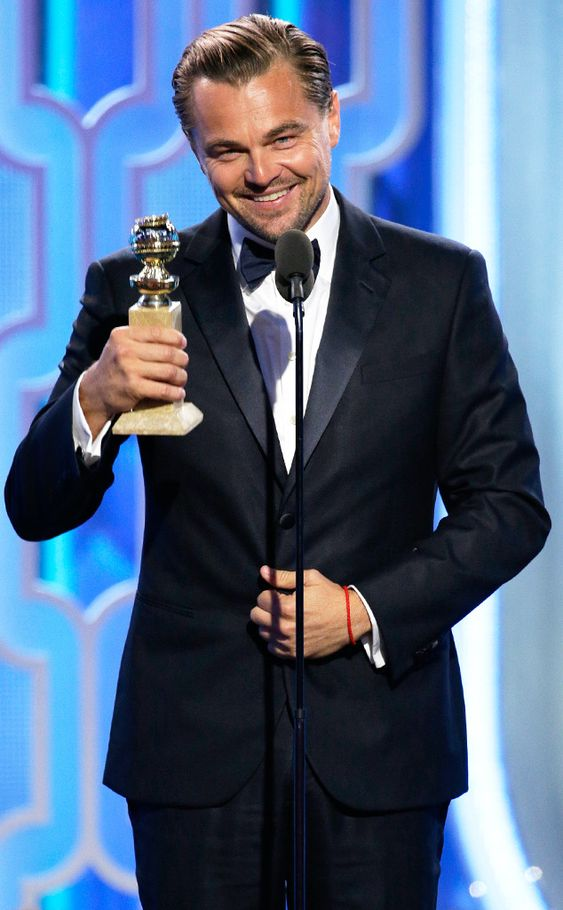hand: (80, 327, 186, 399)
